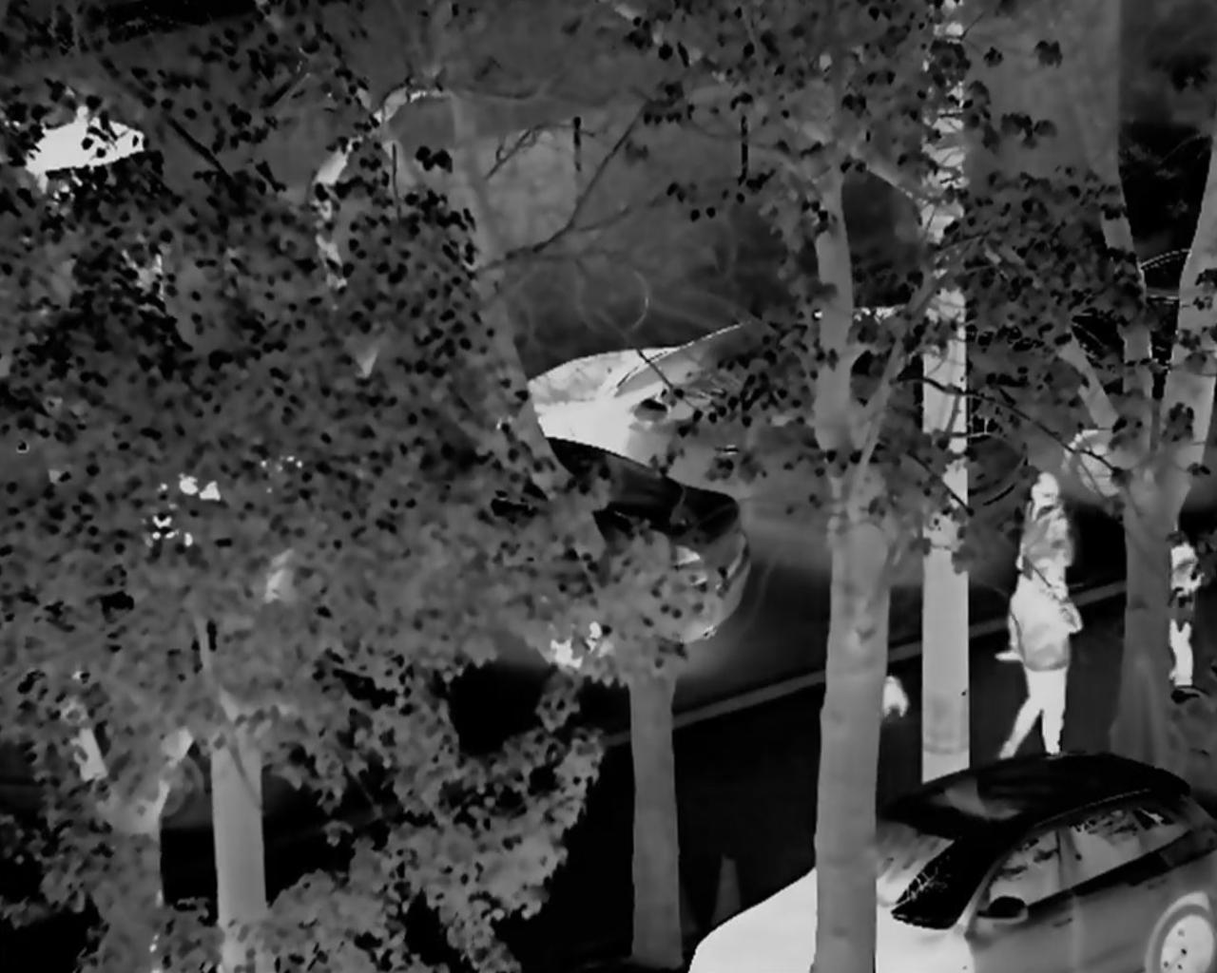person: (1004, 470, 1094, 670), (1003, 554, 1077, 763), (1146, 492, 1204, 703)
